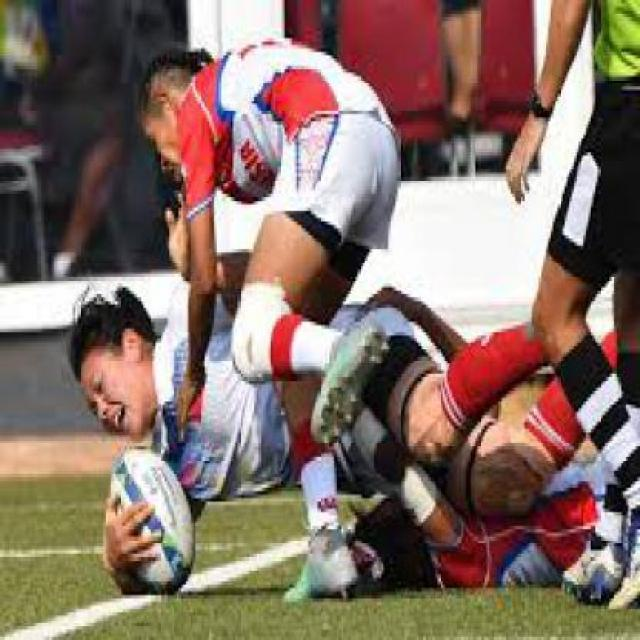fall: (59, 253, 635, 578)
